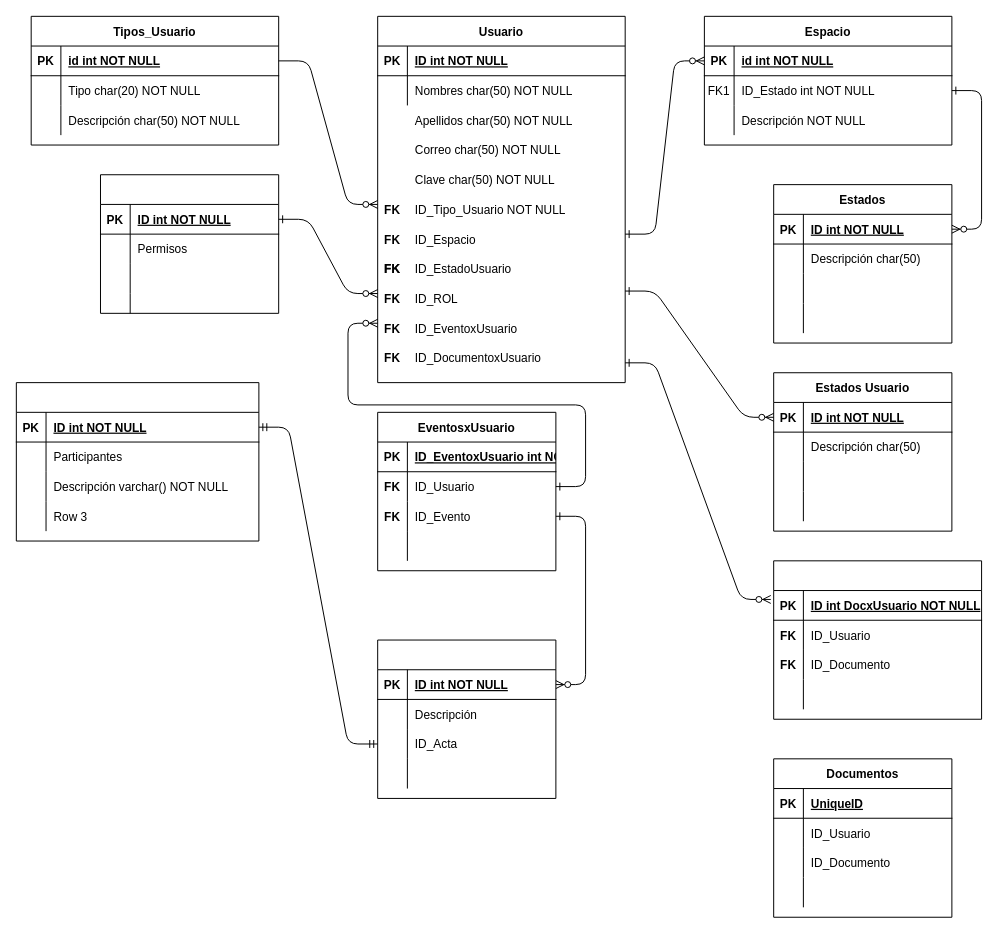
Some shapes in this 998 by 934 pixel diagram are drawn without their labels. Each missing label, with the box of its shape:
Actas: (15, 382, 259, 541)
DocumentoxUsuario: (773, 560, 982, 719)
Eventos: (377, 639, 556, 798)
Roles: (99, 174, 279, 313)
